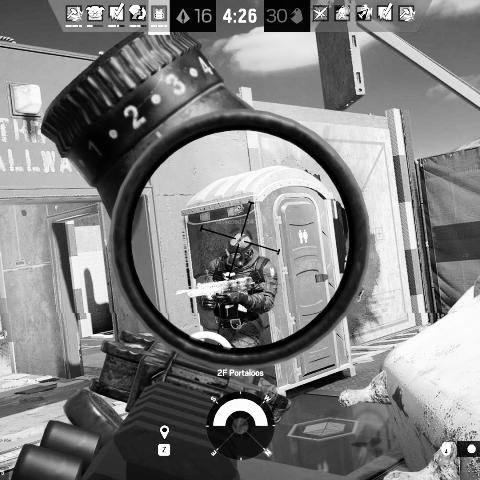Character: (176, 231, 280, 350)
Head: (224, 232, 255, 269)
